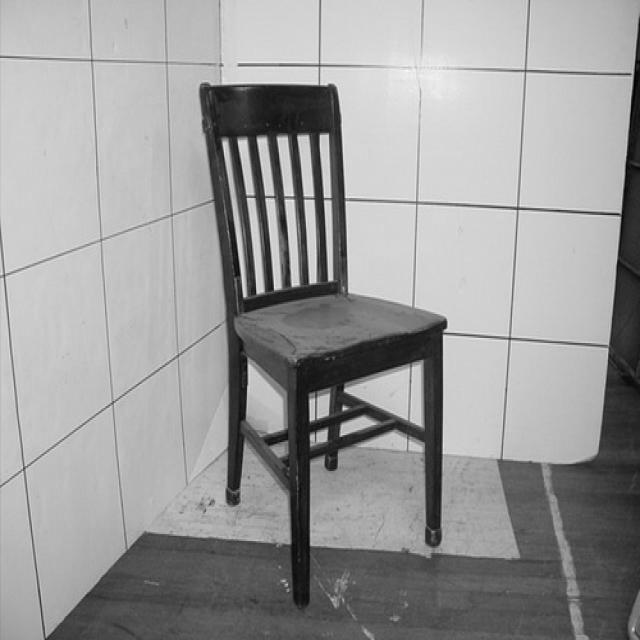chair: (196, 77, 452, 613)
